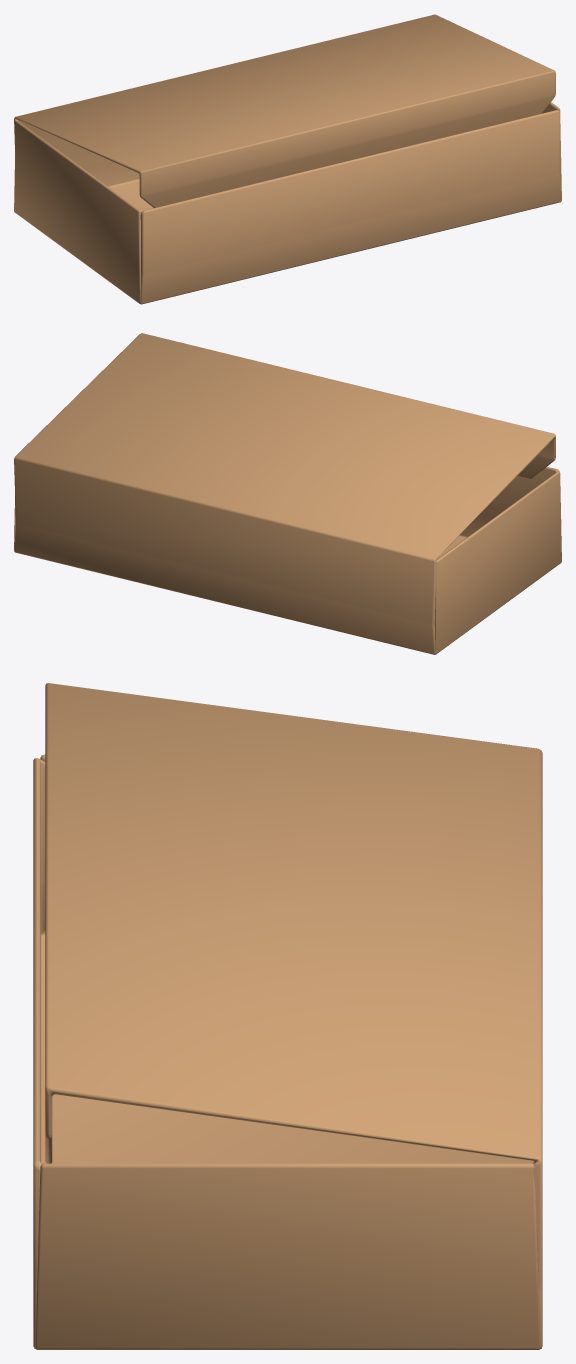
File: KotakMakan.fbx
3 renders of one model, top to bottom at view 1: azimuth 30°, elevation 25°; view 2: azimuth 150°, elevation 25°; view 3: azimuth 270°, elevation 25°, orthographic. The views are drawn at different scales.
Visible parts, largest first — view 1: KotakMakanan; view 2: KotakMakanan; view 3: KotakMakanan.
Part boxes in pixels (<box>): KotakMakanan: <box>14,14,561,304</box>; KotakMakanan: <box>14,333,561,654</box>; KotakMakanan: <box>33,683,542,1349</box>.
Size of the model in its own units: 13.79 by 4.07 by 7.2.
